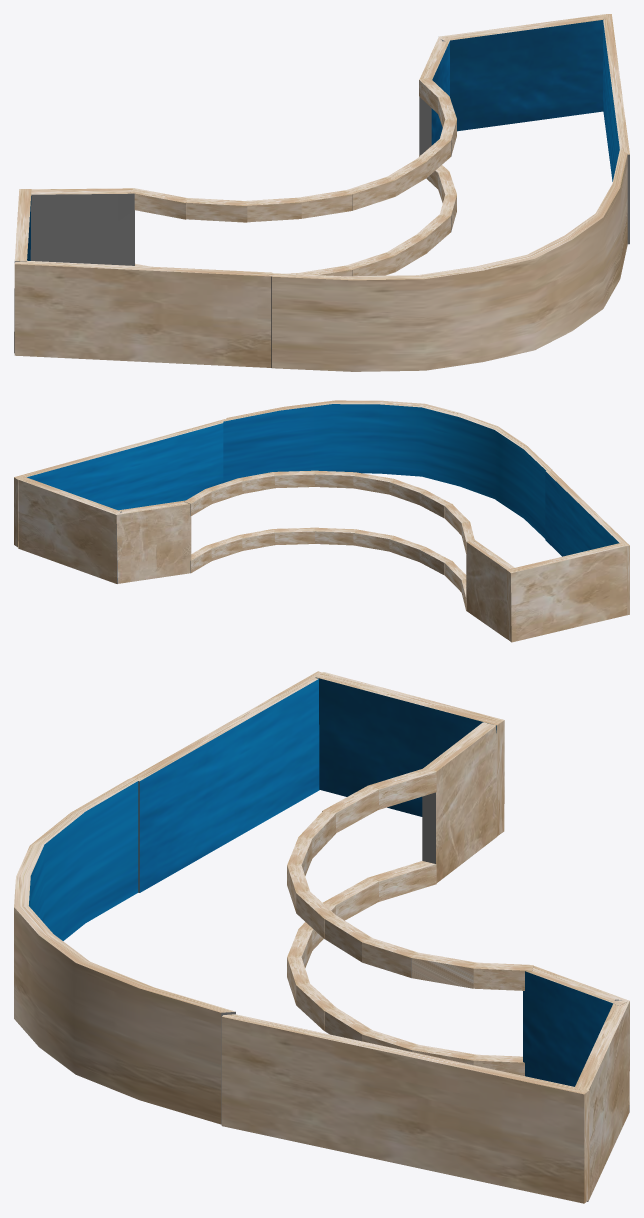
Rendered from area_tiburones.obj.
3 renders of one model, top to bottom at view 1: azimuth 30°, elevation 25°; view 2: azimuth 150°, elevation 25°; view 3: azimuth 270°, elevation 25°, orthographic. The views are drawn at different scales.
Parts seen in each view (by area): view 1: polySurface20; view 2: polySurface20; view 3: polySurface20.
Boxes of the visible parts, x1,y1,x2,y2 form: polySurface20: [14, 14, 629, 371]; polySurface20: [14, 400, 629, 642]; polySurface20: [14, 671, 629, 1203].
Size of the model in its own units: 91.97 by 11.72 by 56.9.
5 materials, 4 textured.
